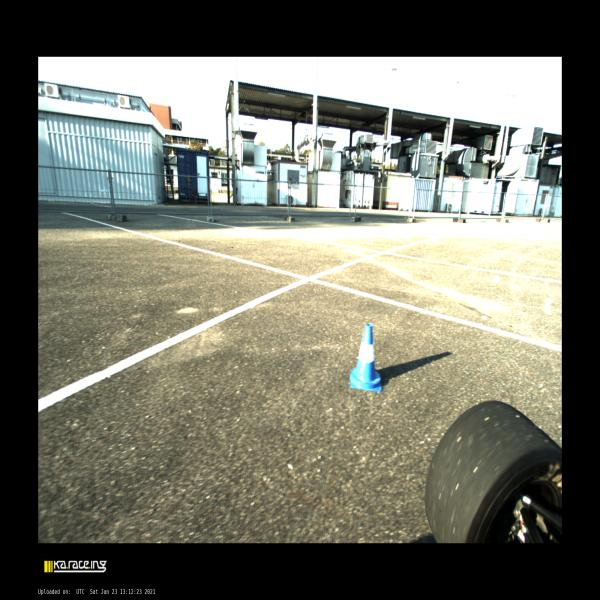blue_cone: (350, 324, 382, 391)
